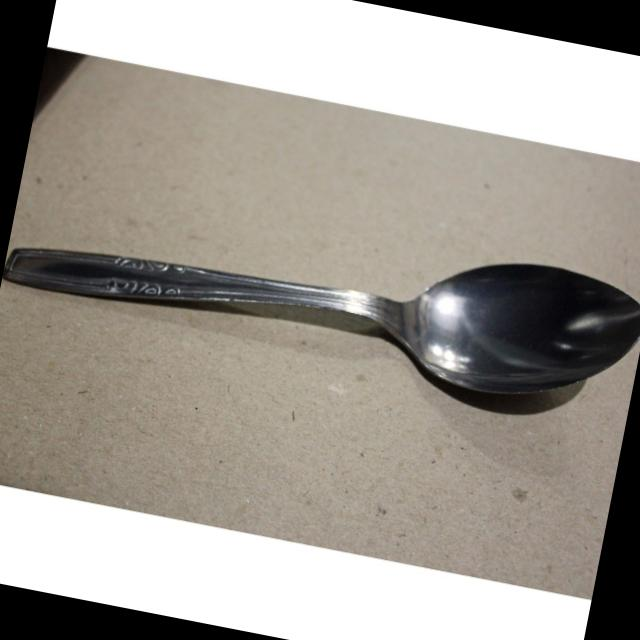spoon: (0, 153, 640, 430)
